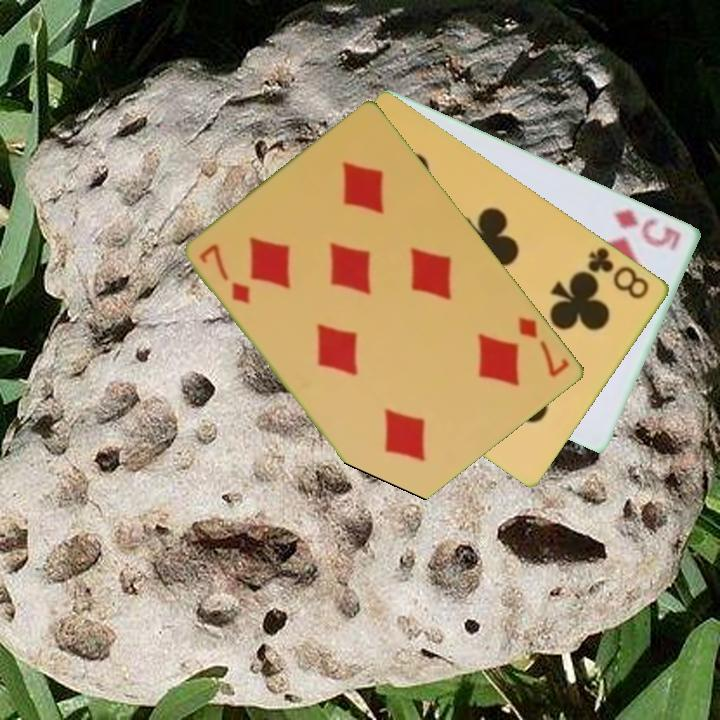5d: (609, 205, 685, 254)
7d: (196, 240, 254, 308), (515, 313, 573, 380)
8c: (584, 243, 653, 302)
